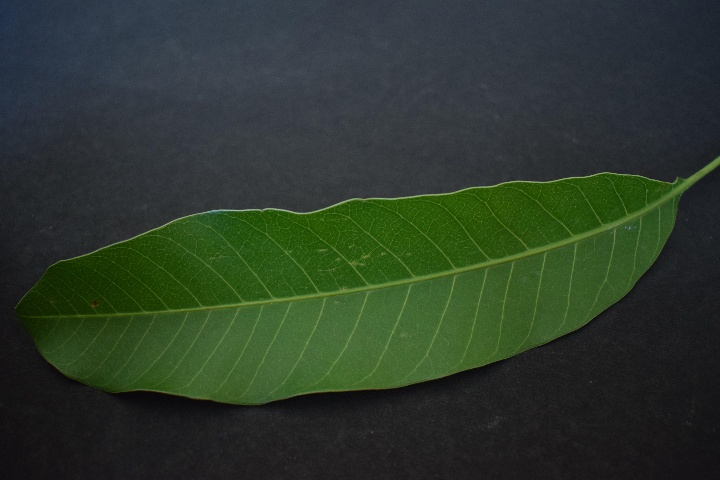healthy: (31, 171, 672, 403)
